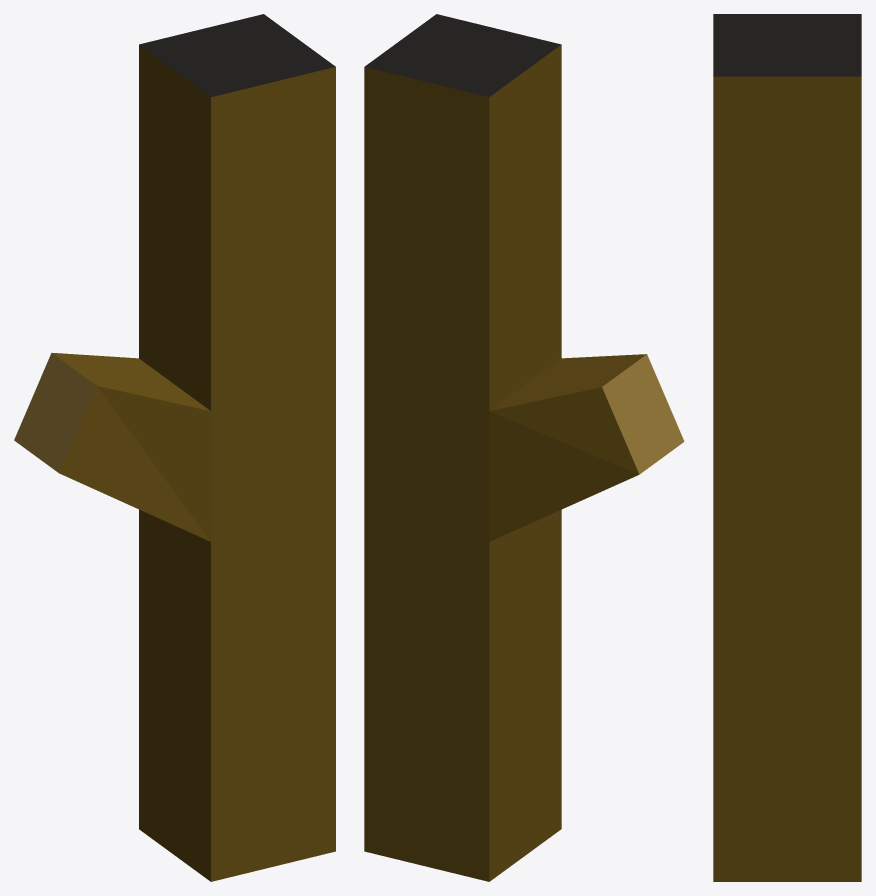
The model's file is obj_tree_16_0.obj.
3 views of the same model, side by side, from view 1: azimuth 30°, elevation 25°; view 2: azimuth 150°, elevation 25°; view 3: azimuth 270°, elevation 25° (orthographic). The views are drawn at different scales.
Size of the model in its own units: 0.6562 by 1.88 by 0.3125.
